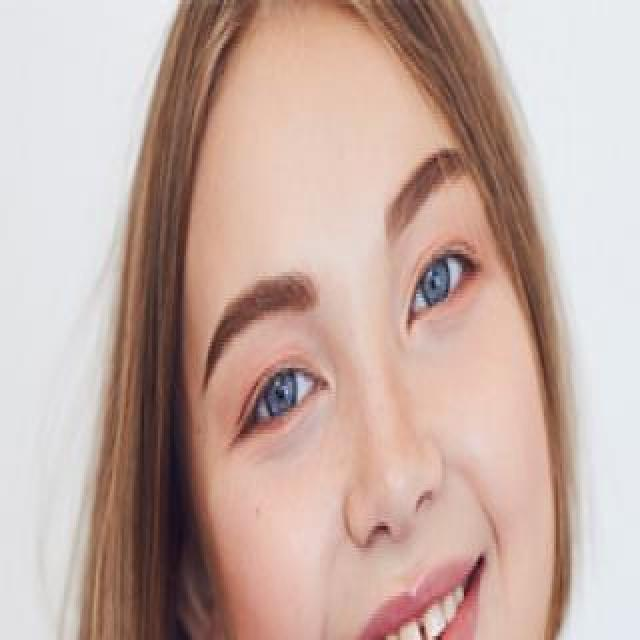spacing: (412, 616, 432, 640)
